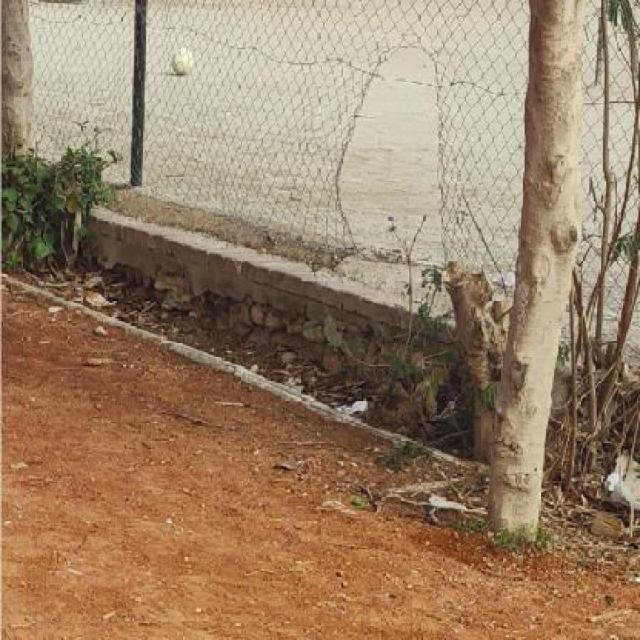fence line: (345, 52, 465, 381)
